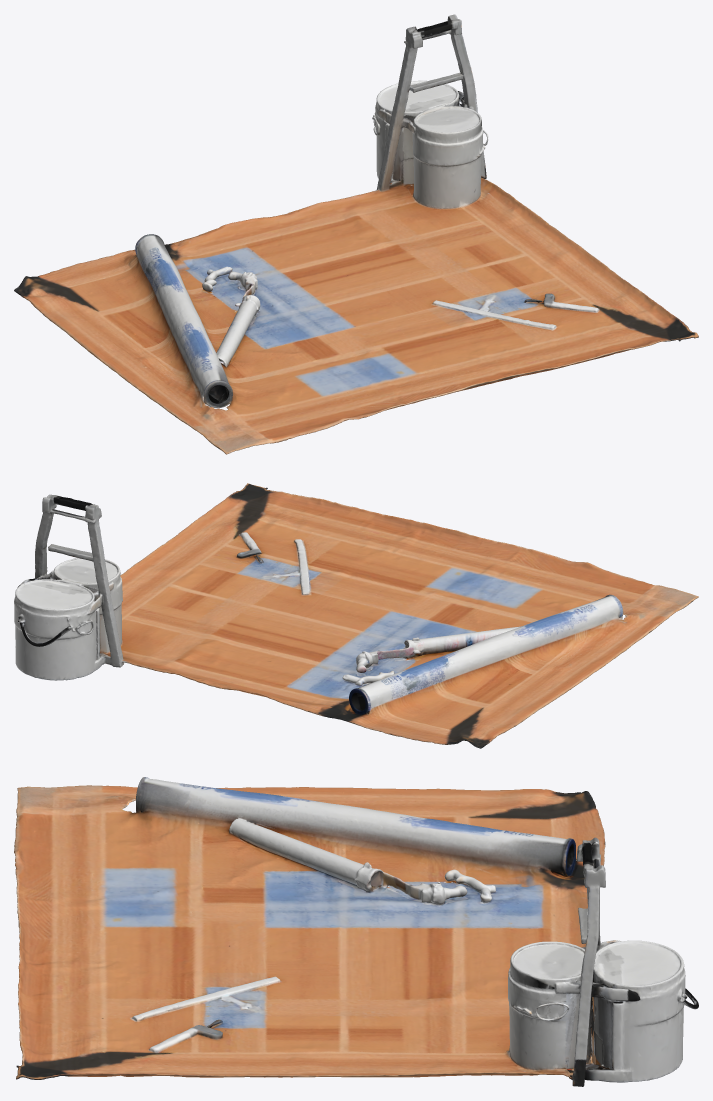
Rendered from science.glb.
The picture shows the model from 3 angles, top to bottom: view 1: azimuth 30°, elevation 25°; view 2: azimuth 150°, elevation 25°; view 3: azimuth 270°, elevation 25°; orthographic projection. The views are drawn at different scales.
Size of the model in its own units: 1.9 by 0.6165 by 1.85.
Materials: 1 (1 with a texture image).
